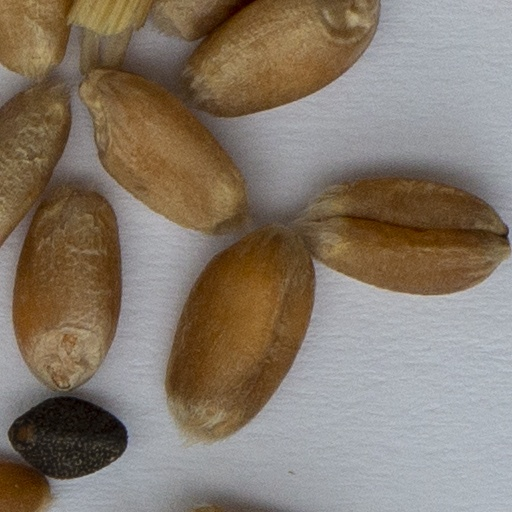Peel-poly: (74, 0, 151, 67)
